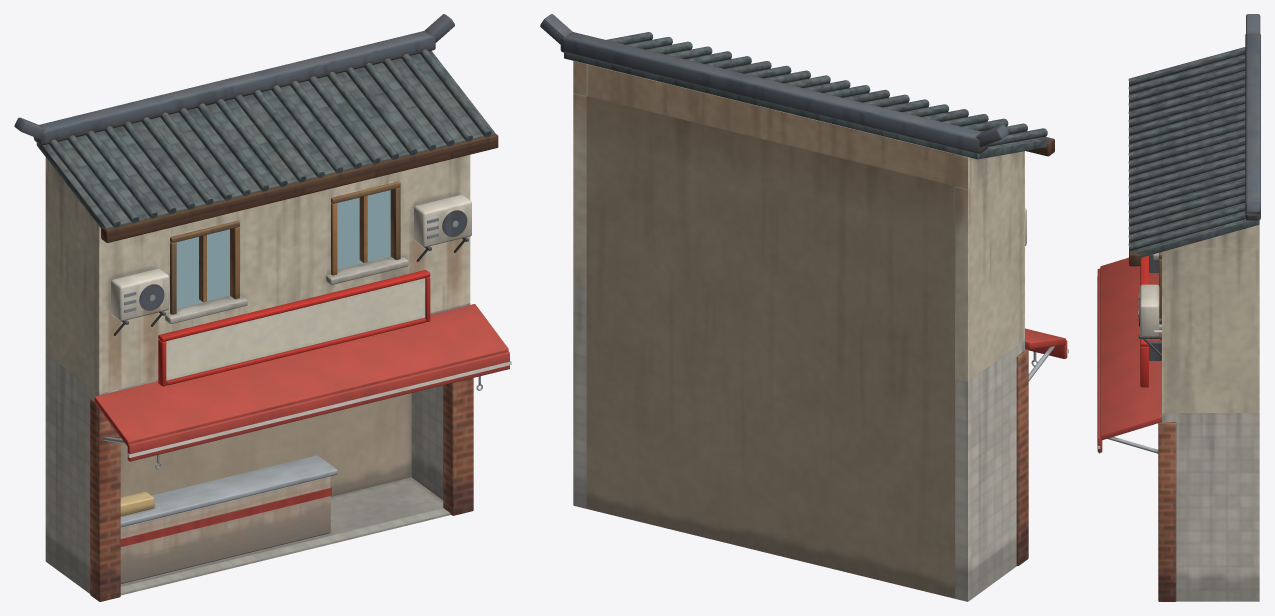
Rendered from noodle_shop.glb.
The picture shows the model from 3 angles, left to right: view 1: azimuth 30°, elevation 25°; view 2: azimuth 150°, elevation 25°; view 3: azimuth 270°, elevation 25°; orthographic projection. The views are drawn at different scales.
Visible parts, largest first — view 1: noodle_shop; view 2: noodle_shop; view 3: noodle_shop.
Part boxes in pixels (left/top/right/bottom): noodle_shop: left=14, top=14, right=511, bottom=601; noodle_shop: left=540, top=14, right=1068, bottom=601; noodle_shop: left=1097, top=14, right=1260, bottom=601.
Bounding box in the file's own units: 7.03 × 6.97 × 2.52.
17 materials, 16 textured.
